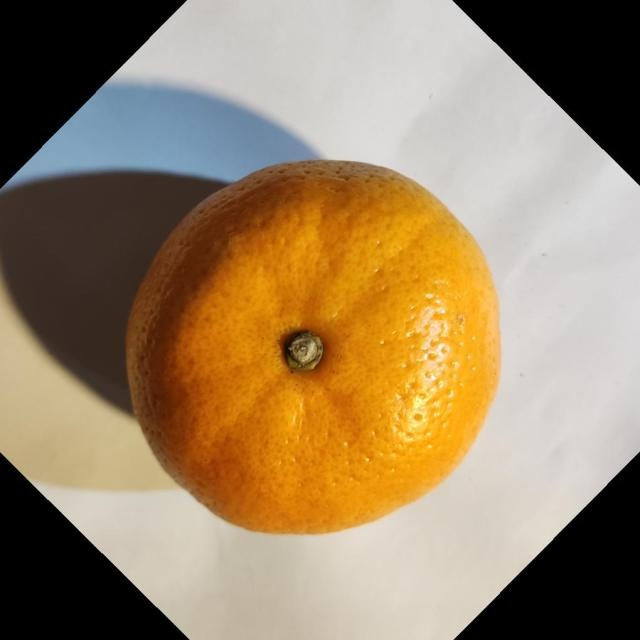agrume: (124, 157, 502, 536)
